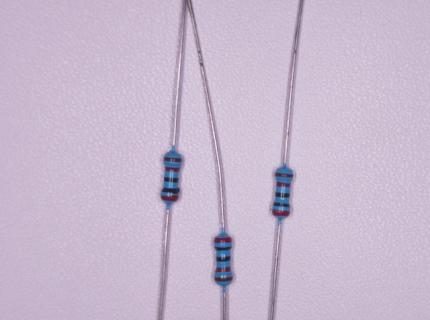Black band: (162, 187, 180, 194), (216, 255, 231, 262), (275, 192, 290, 199), (164, 176, 179, 183), (273, 201, 290, 207), (215, 246, 232, 251)
Brown band: (275, 171, 294, 178), (214, 276, 233, 282), (164, 156, 182, 162)
Red band: (214, 236, 232, 244), (161, 194, 179, 201), (272, 209, 290, 216), (215, 266, 231, 273), (276, 181, 291, 188), (165, 166, 180, 172)
